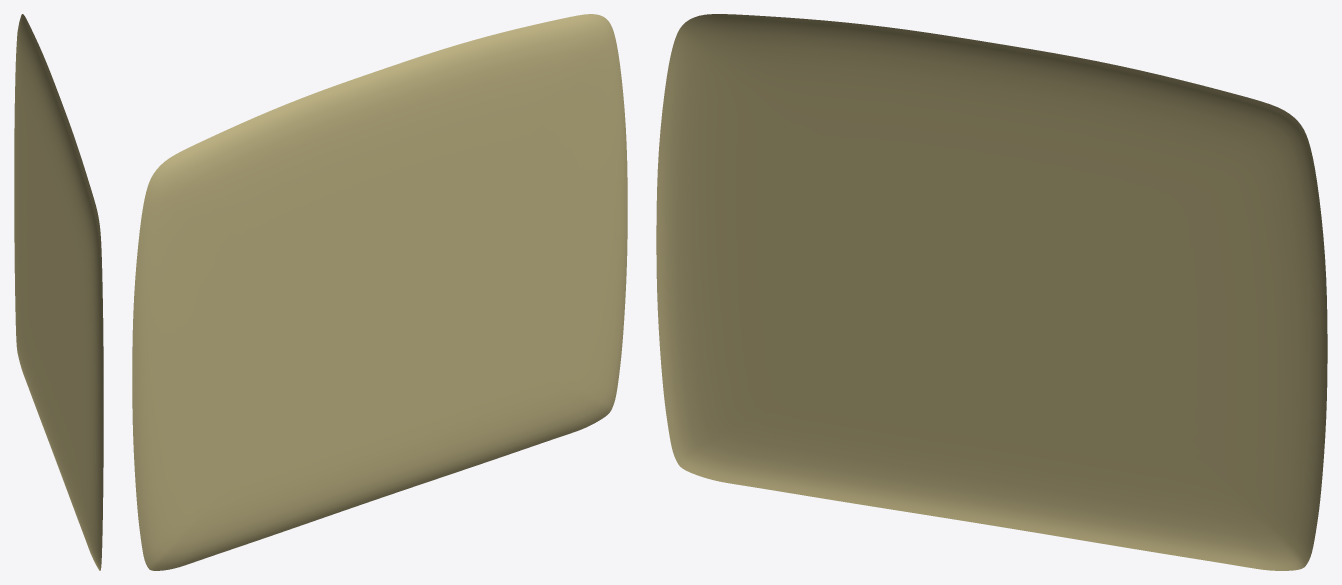
Rendered from Radio-back.obj.
3 views of the same model, side by side, from view 1: azimuth 30°, elevation 25°; view 2: azimuth 150°, elevation 25°; view 3: azimuth 270°, elevation 25° (orthographic). The views are drawn at different scales.
Visible parts, largest first — view 1: Radio-back_Plane.035; view 2: Radio-back_Plane.035; view 3: Radio-back_Plane.035.
Boxes of the visible parts, box(x1,y1,x2,y2) form: Radio-back_Plane.035: box(14, 14, 103, 570); Radio-back_Plane.035: box(132, 14, 627, 570); Radio-back_Plane.035: box(656, 14, 1327, 570).
Bounding box in the file's own units: 0.1245 × 0.2568 × 0.3232.
